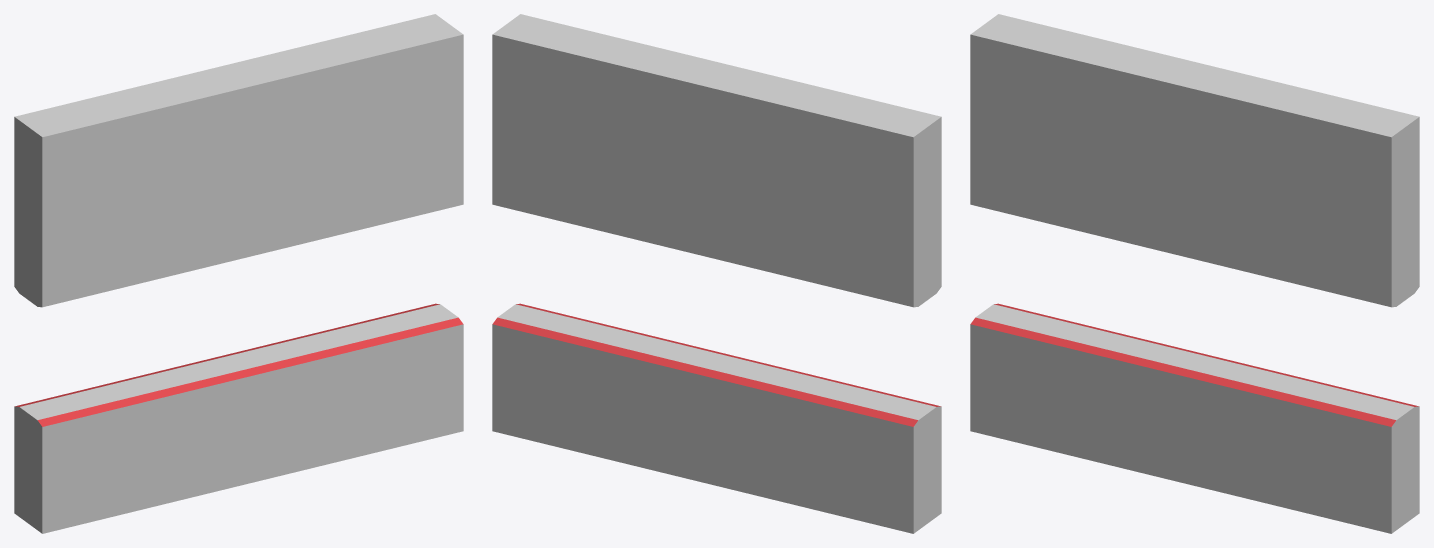
The model's file is WallWithBeam.fbx.
3 renders of one model, left to right at view 1: azimuth 30°, elevation 25°; view 2: azimuth 150°, elevation 25°; view 3: azimuth 330°, elevation 25°, orthographic.
Visible parts, largest first — view 1: Cube.020; view 2: Cube.020; view 3: Cube.020.
Part boxes in pixels (box(x1,y1,x2,y2)): Cube.020: box(14, 14, 463, 533); Cube.020: box(492, 14, 941, 533); Cube.020: box(970, 14, 1419, 533).
Size of the model in its own units: 49.86 by 44.88 by 5.76.
